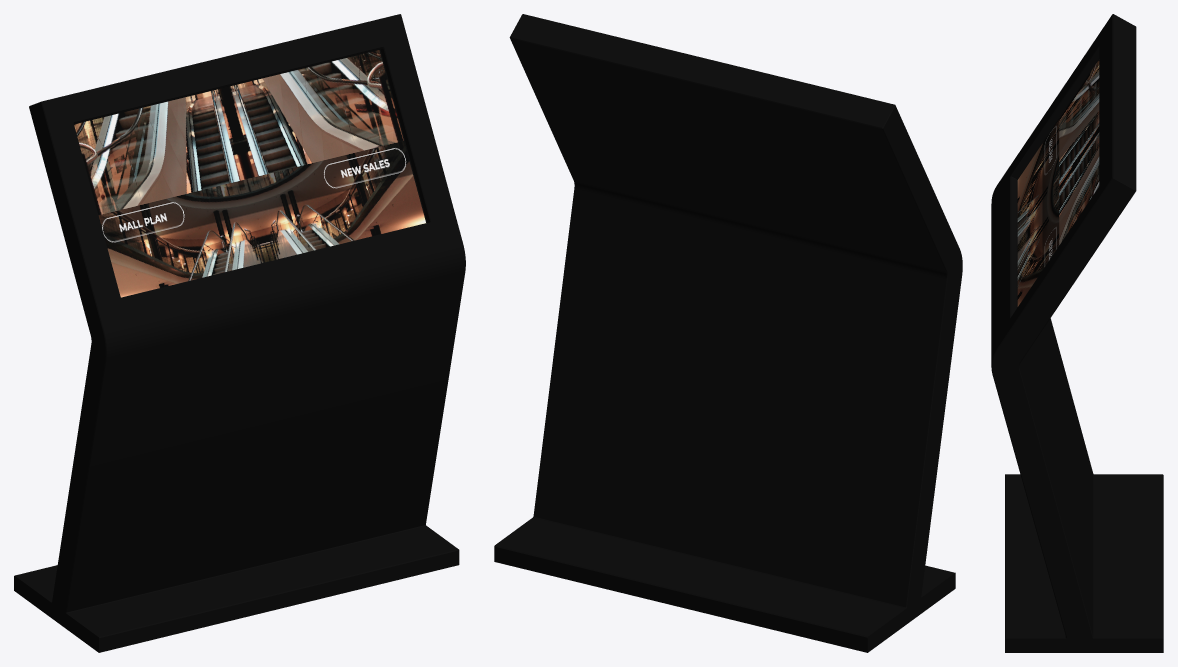
File: zhongkongdiannao.fbx
The picture shows the model from 3 angles, left to right: view 1: azimuth 30°, elevation 25°; view 2: azimuth 150°, elevation 25°; view 3: azimuth 270°, elevation 25°; orthographic projection. The views are drawn at different scales.
Parts seen in each view (by area): view 1: cgaxis_models_107_13_01, cgaxis_models_107_13_02; view 2: cgaxis_models_107_13_01; view 3: cgaxis_models_107_13_01, cgaxis_models_107_13_02.
Part boxes in pixels (left/top/right/bottom): cgaxis_models_107_13_01: left=14, top=14, right=465, bottom=652; cgaxis_models_107_13_02: left=74, top=50, right=425, bottom=297; cgaxis_models_107_13_01: left=494, top=14, right=962, bottom=652; cgaxis_models_107_13_01: left=991, top=14, right=1163, bottom=652; cgaxis_models_107_13_02: left=1017, top=59, right=1099, bottom=306.
Size of the model in its own units: 38.19 by 51.54 by 16.91.
2 materials, 1 textured.
